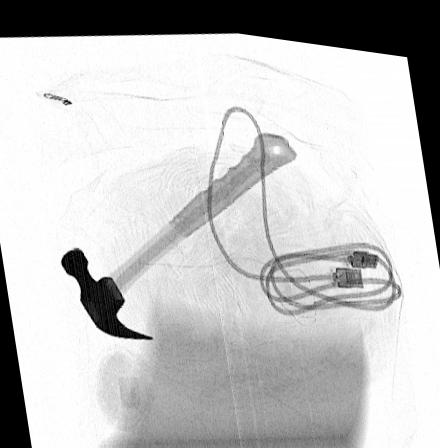Hammer: (59, 123, 298, 335)
